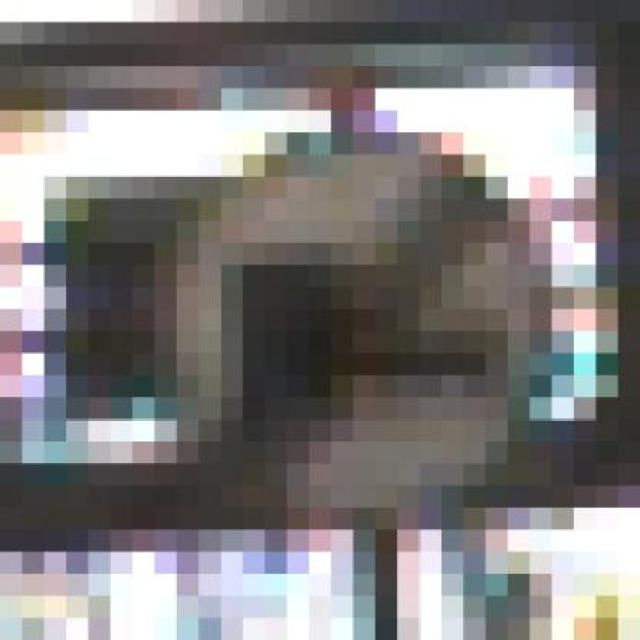Overtaking by trucks is prohibited: (176, 89, 596, 552)
